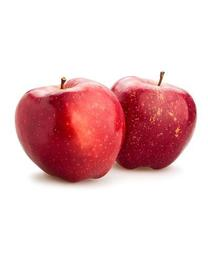apple: (13, 76, 124, 182), (110, 71, 197, 170)
